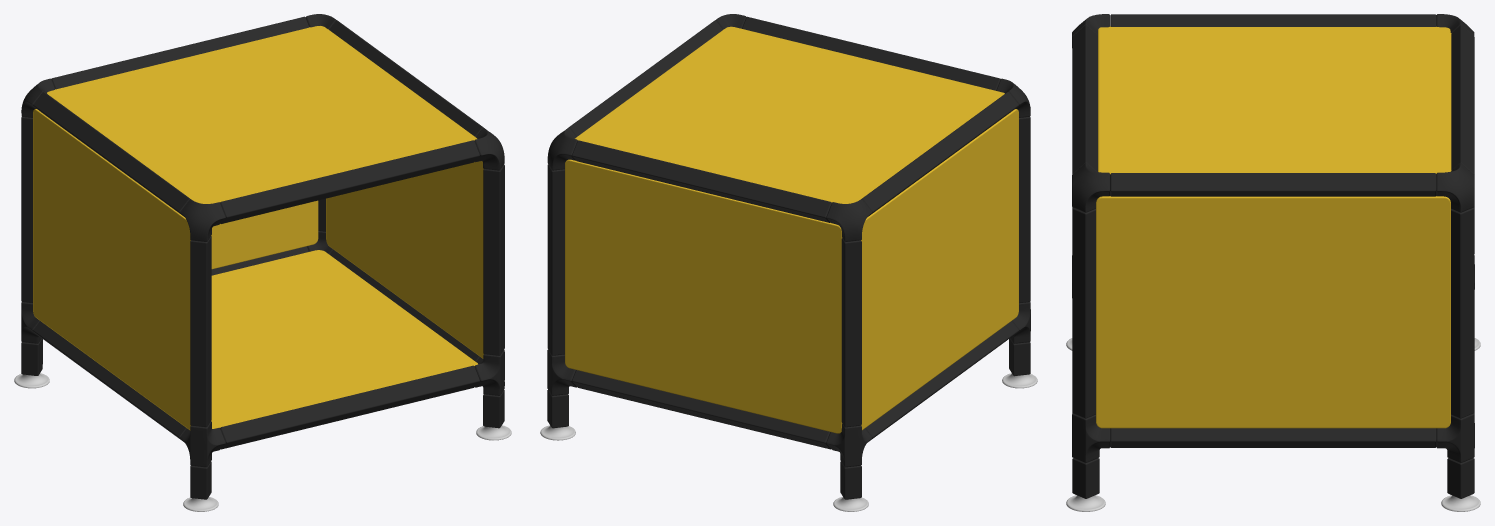
3 views of the same model, side by side, from view 1: azimuth 30°, elevation 25°; view 2: azimuth 150°, elevation 25°; view 3: azimuth 270°, elevation 25° (orthographic). The views are drawn at different scales.
Parts seen in each view (by area): view 1: 329x329x229; view 2: 329x329x229; view 3: 329x329x229.
Boxes of the visible parts, x1,y1,x2,y2 form: 329x329x229: (14, 14, 511, 511); 329x329x229: (540, 14, 1037, 511); 329x329x229: (1066, 14, 1480, 511).
Size of the model in its own units: 0.4189 by 0.3683 by 0.4183.
